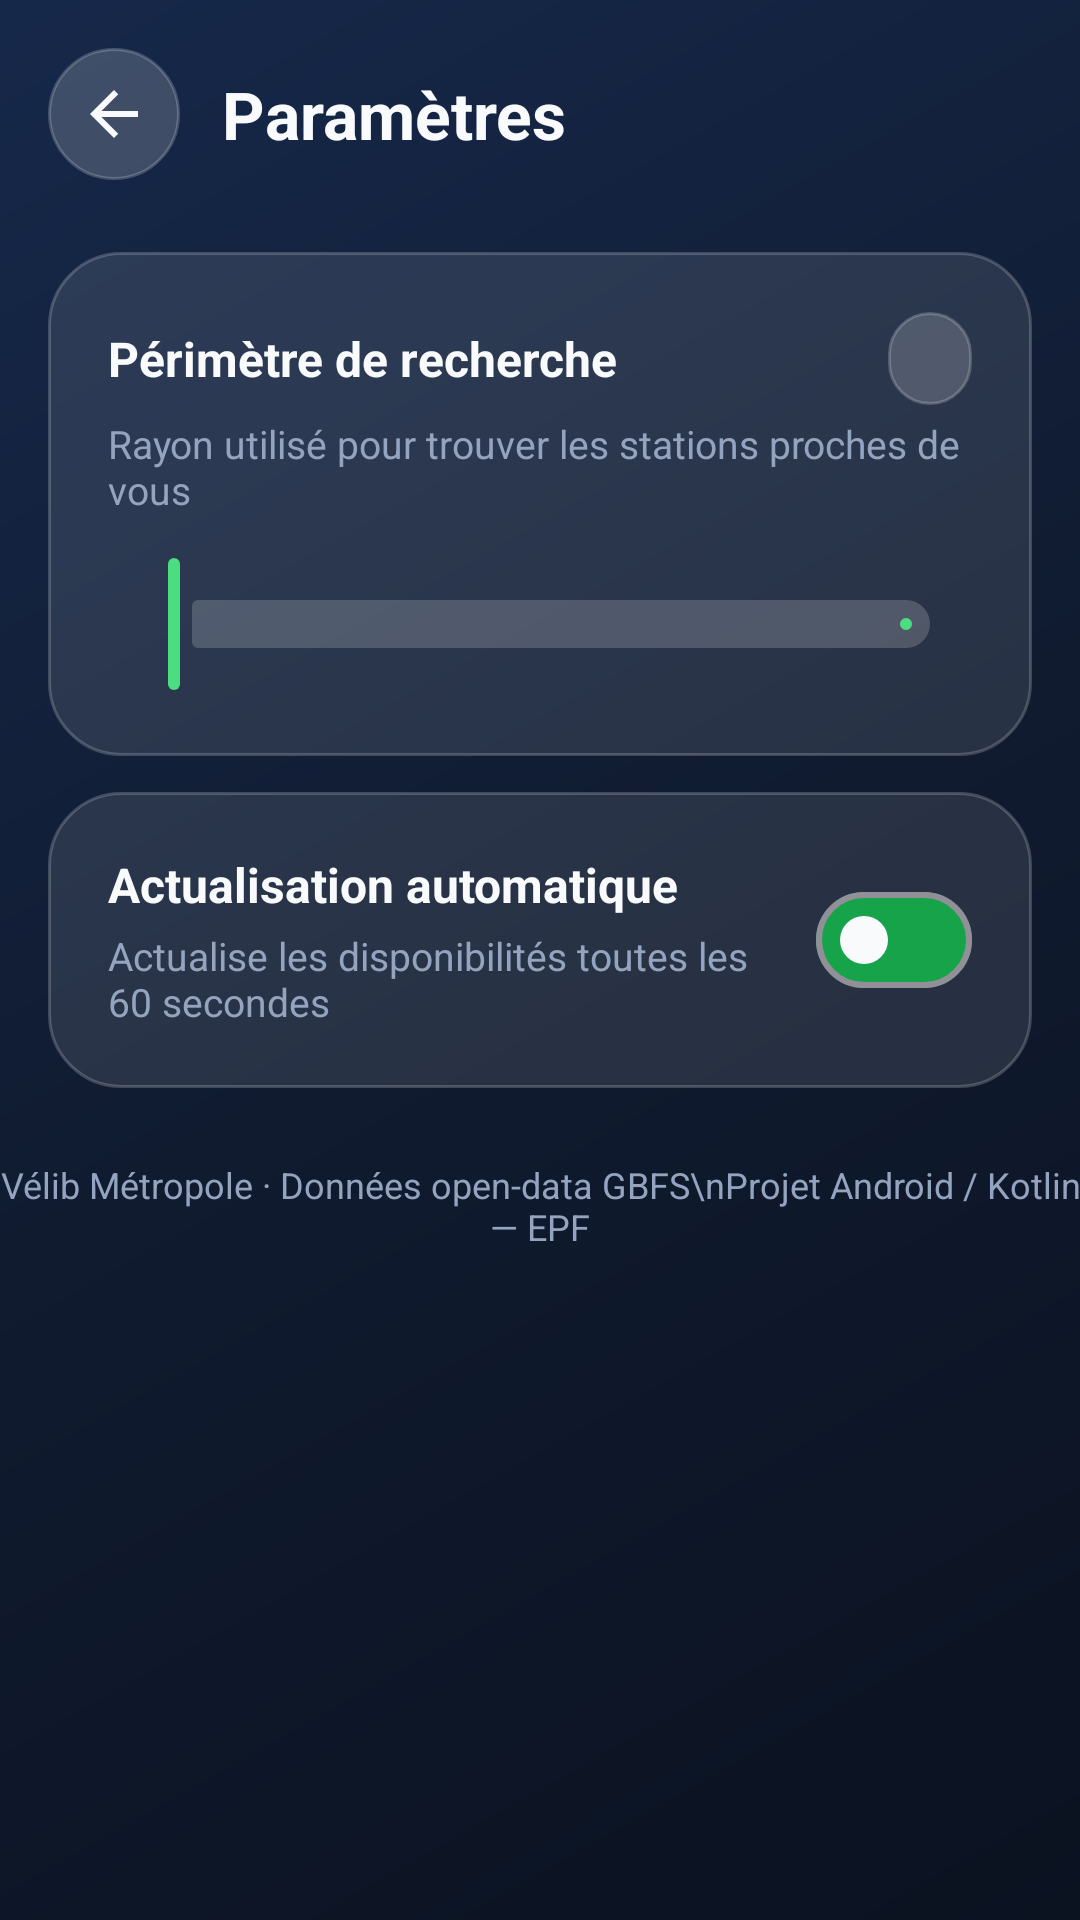

Screen size 1080px x 1920px. Icon name, then its box in pixels as (x1, y1, x2, y2):
Retour: (48, 48, 180, 180)
